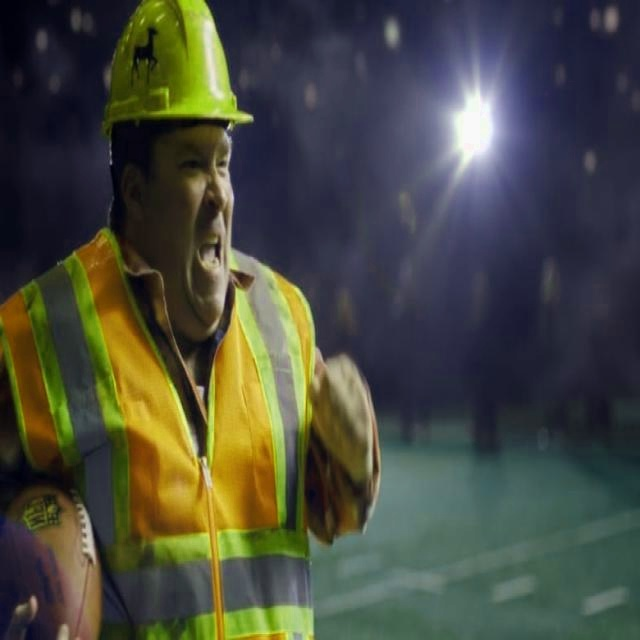Con_Casco: (105, 2, 251, 233)
Con_Chaleco: (71, 237, 290, 630)
